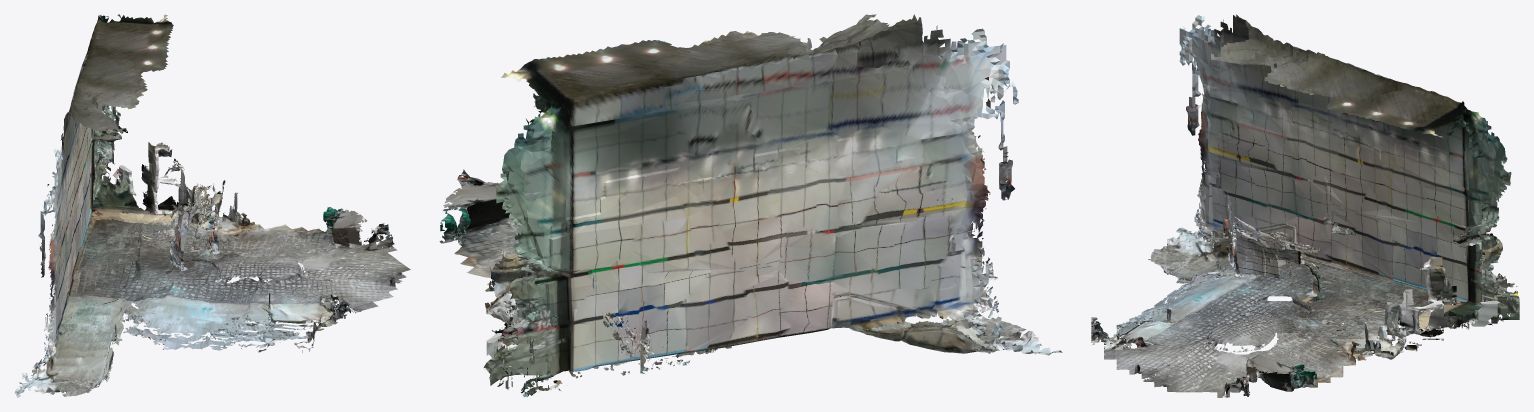
The picture shows the model from 3 angles, left to right: view 1: azimuth 30°, elevation 25°; view 2: azimuth 150°, elevation 25°; view 3: azimuth 270°, elevation 25°; orthographic projection. The views are drawn at different scales.
Parts seen in each view (by area): view 1: mesh; view 2: mesh; view 3: mesh.
Boxes of the visible parts, bbox=[...] form: mesh: bbox=[14, 14, 410, 397]; mesh: bbox=[439, 14, 1062, 397]; mesh: bbox=[1091, 14, 1519, 397].
Bounding box in the file's own units: 15.4 × 9.21 × 13.6.
Materials: 1 (1 with a texture image).
